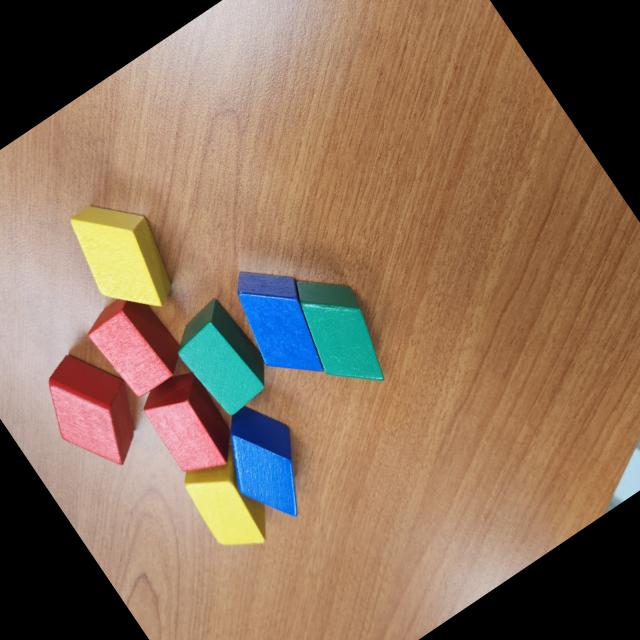blue: (215, 248, 348, 396), (202, 392, 334, 536)
green: (273, 256, 405, 406), (162, 294, 280, 422)
red: (26, 335, 166, 486), (79, 284, 193, 404), (136, 364, 248, 486)
yellow: (56, 180, 193, 332), (175, 441, 288, 564)
